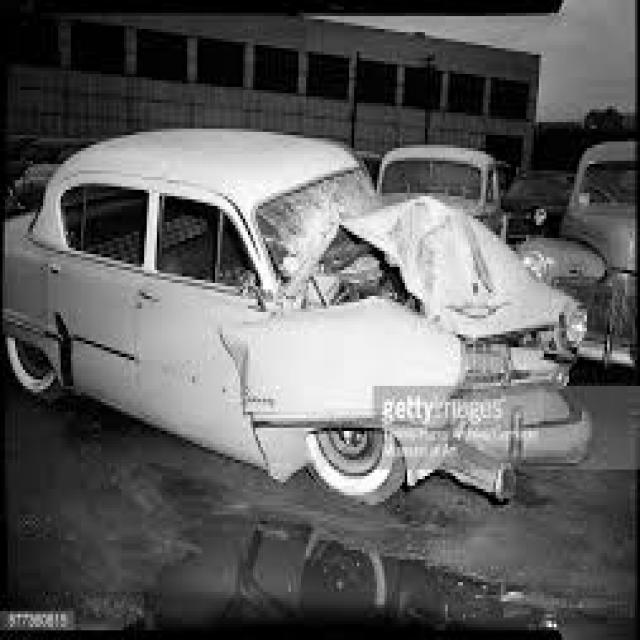severe: (200, 154, 593, 504)
